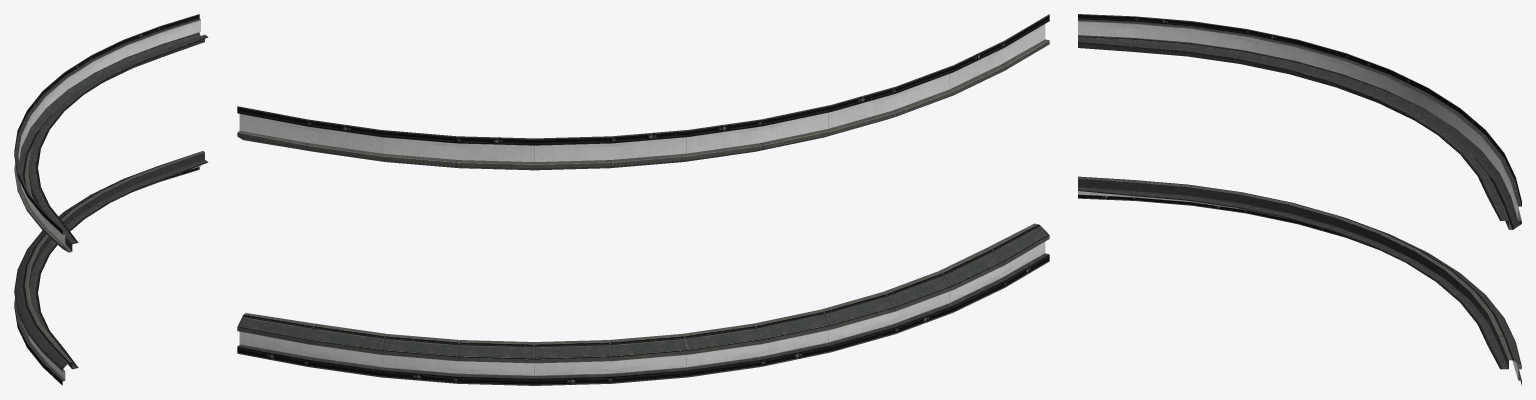
The model's file is Emb_Window_03_Frame.FBX.
3 renders of one model, left to right at view 1: azimuth 30°, elevation 25°; view 2: azimuth 150°, elevation 25°; view 3: azimuth 270°, elevation 25°, orthographic. The views are drawn at different scales.
Visible parts, largest first — view 1: Emb_Window_03_Frame; view 2: Emb_Window_03_Frame; view 3: Emb_Window_03_Frame.
Boxes of the visible parts, box(x1,y1,x2,y2) form: Emb_Window_03_Frame: box(14, 14, 208, 385); Emb_Window_03_Frame: box(237, 14, 1049, 385); Emb_Window_03_Frame: box(1078, 14, 1521, 385).
Bounding box in the file's own units: 10.22 × 4.7 × 10.23.
